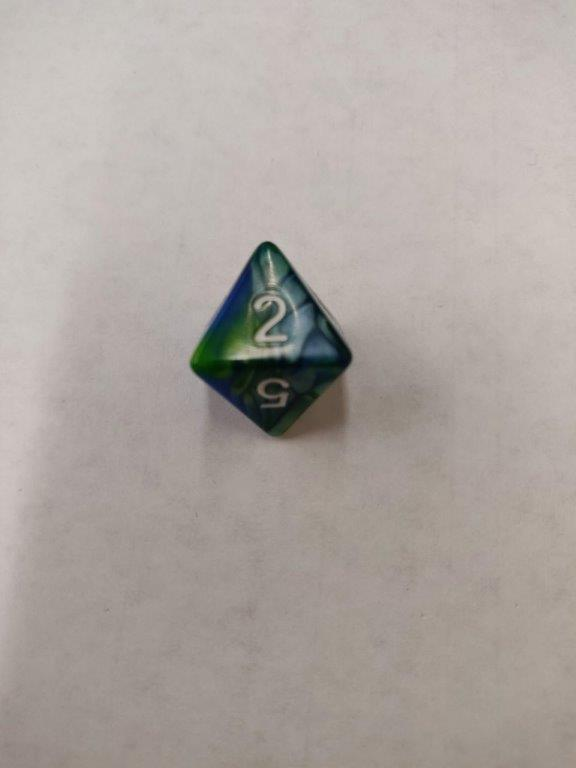d8-2: (188, 242, 355, 437)
